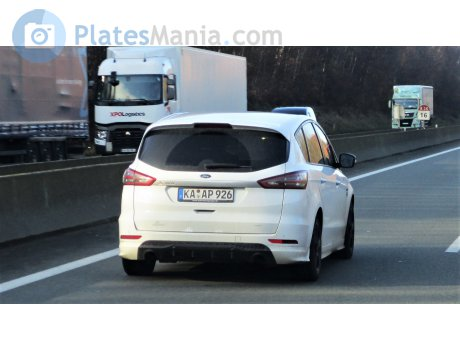License Plates: (179, 183, 232, 196)
